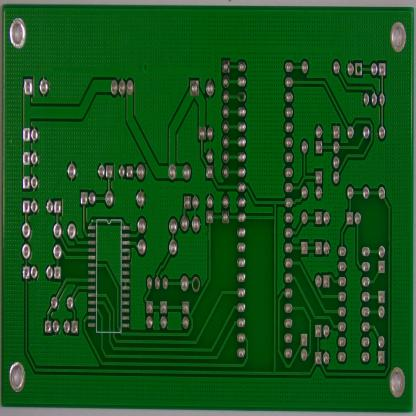missing_hole: (190, 273, 202, 294), (354, 62, 363, 77), (238, 89, 246, 103)
